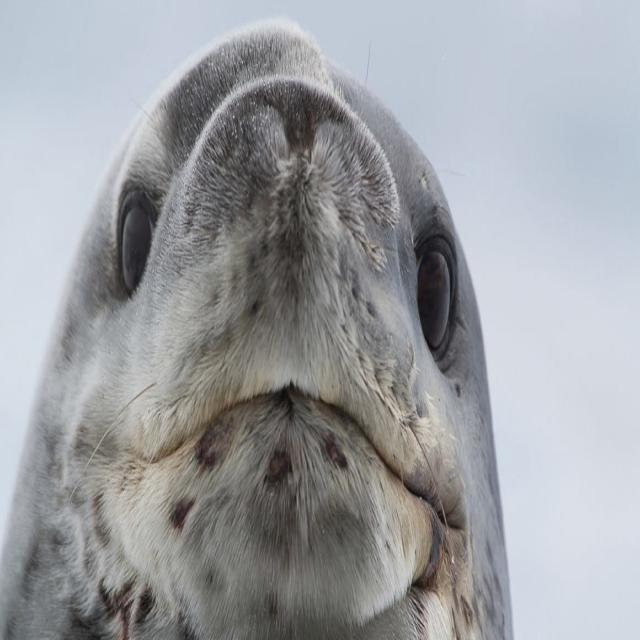seal: (1, 22, 512, 639)
